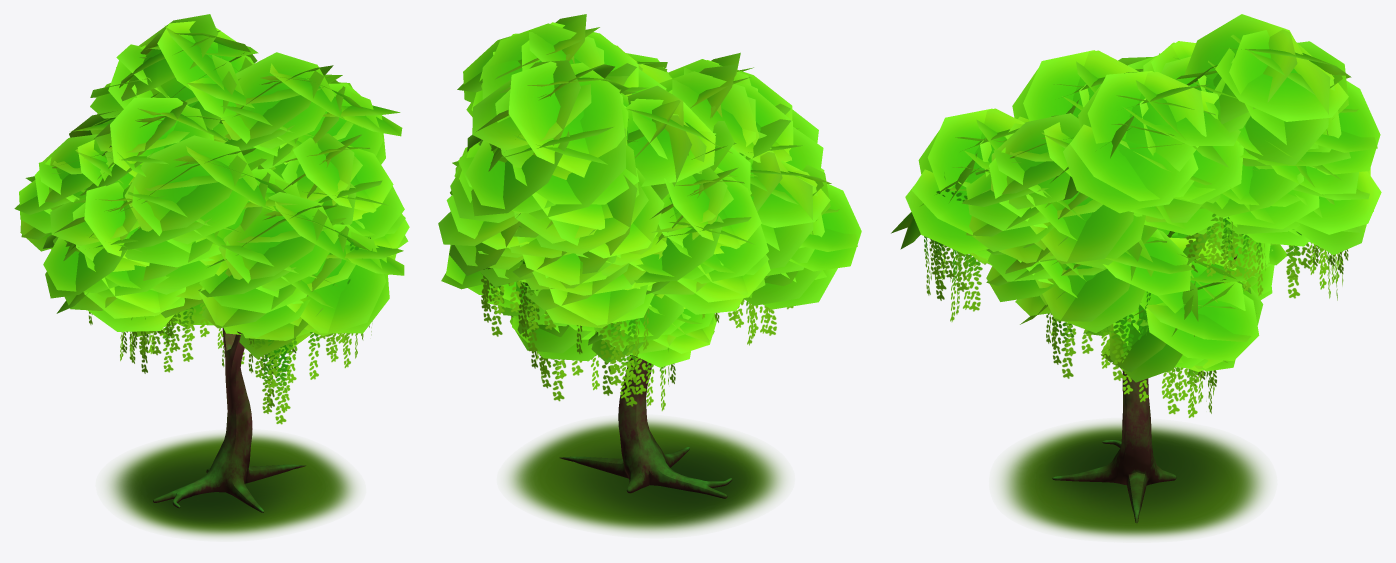
File: nimbus_willow_tree.glb
The picture shows the model from 3 angles, left to right: view 1: azimuth 30°, elevation 25°; view 2: azimuth 150°, elevation 25°; view 3: azimuth 270°, elevation 25°; orthographic projection. The views are drawn at different scales.
Visible parts, largest first — view 1: Plane_337, Plane_494_4_0, Plane_495_8_0, Plane_474; view 2: Plane_337, Plane_494_4_0, Plane_474, Plane_495_8_0; view 3: Plane_337, Plane_494_4_0, Plane_474, Plane_495_8_0.
Boxes of the visible parts, box(x1,y1,x2,y2) form: Plane_337: box(14, 14, 409, 358); Plane_494_4_0: box(107, 433, 355, 536); Plane_495_8_0: box(153, 328, 306, 512); Plane_474: box(88, 237, 372, 424); Plane_337: box(438, 14, 861, 367); Plane_494_4_0: box(507, 419, 783, 532); Plane_474: box(481, 226, 793, 410); Plane_495_8_0: box(559, 355, 732, 498); Plane_337: box(891, 14, 1381, 382); Plane_494_4_0: box(1000, 422, 1266, 538); Plane_474: box(924, 176, 1348, 417); Plane_495_8_0: box(1052, 254, 1237, 523).
Size of the model in its own units: 4.12 by 4.71 by 4.51.
Materials: 4 (4 with a texture image).
